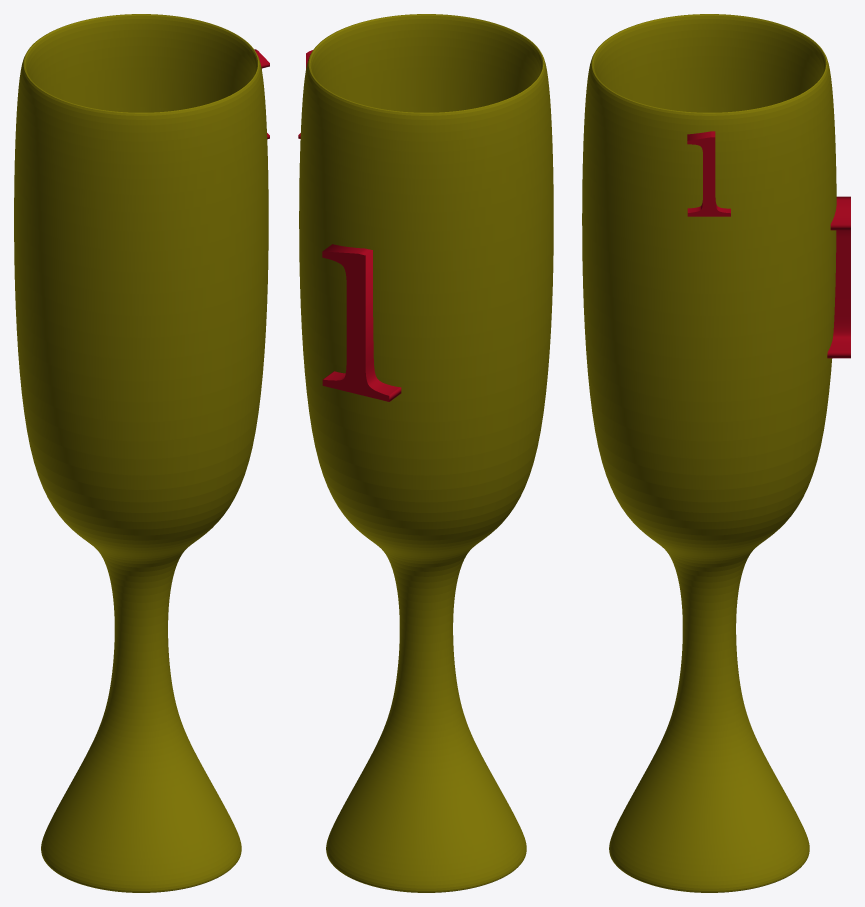
The model's file is trophy_no_monkey.fbx.
3 views of the same model, side by side, from view 1: azimuth 30°, elevation 25°; view 2: azimuth 150°, elevation 25°; view 3: azimuth 270°, elevation 25° (orthographic).
Visible parts, largest first — view 1: Cylinder; view 2: Cylinder, Text.002; view 3: Cylinder, Text.002, Text.
Boxes of the visible parts, x1,y1,x2,y2 form: Cylinder: (14, 14, 268, 892); Cylinder: (299, 14, 553, 892); Text.002: (322, 244, 401, 401); Cylinder: (582, 14, 836, 892); Text.002: (827, 196, 850, 358); Text: (687, 131, 730, 216).
Bounding box in the file's own units: 202 × 669 × 207.
